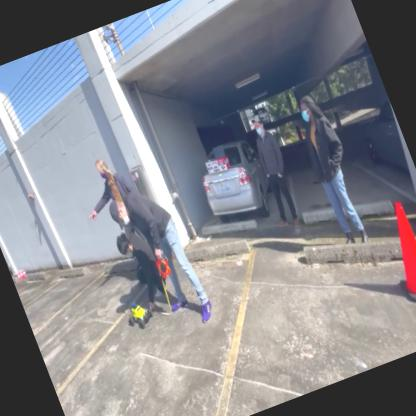cone: (368, 194, 415, 317)
mushr_car: (118, 291, 156, 333)
